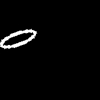chain: (0, 30, 35, 47)
